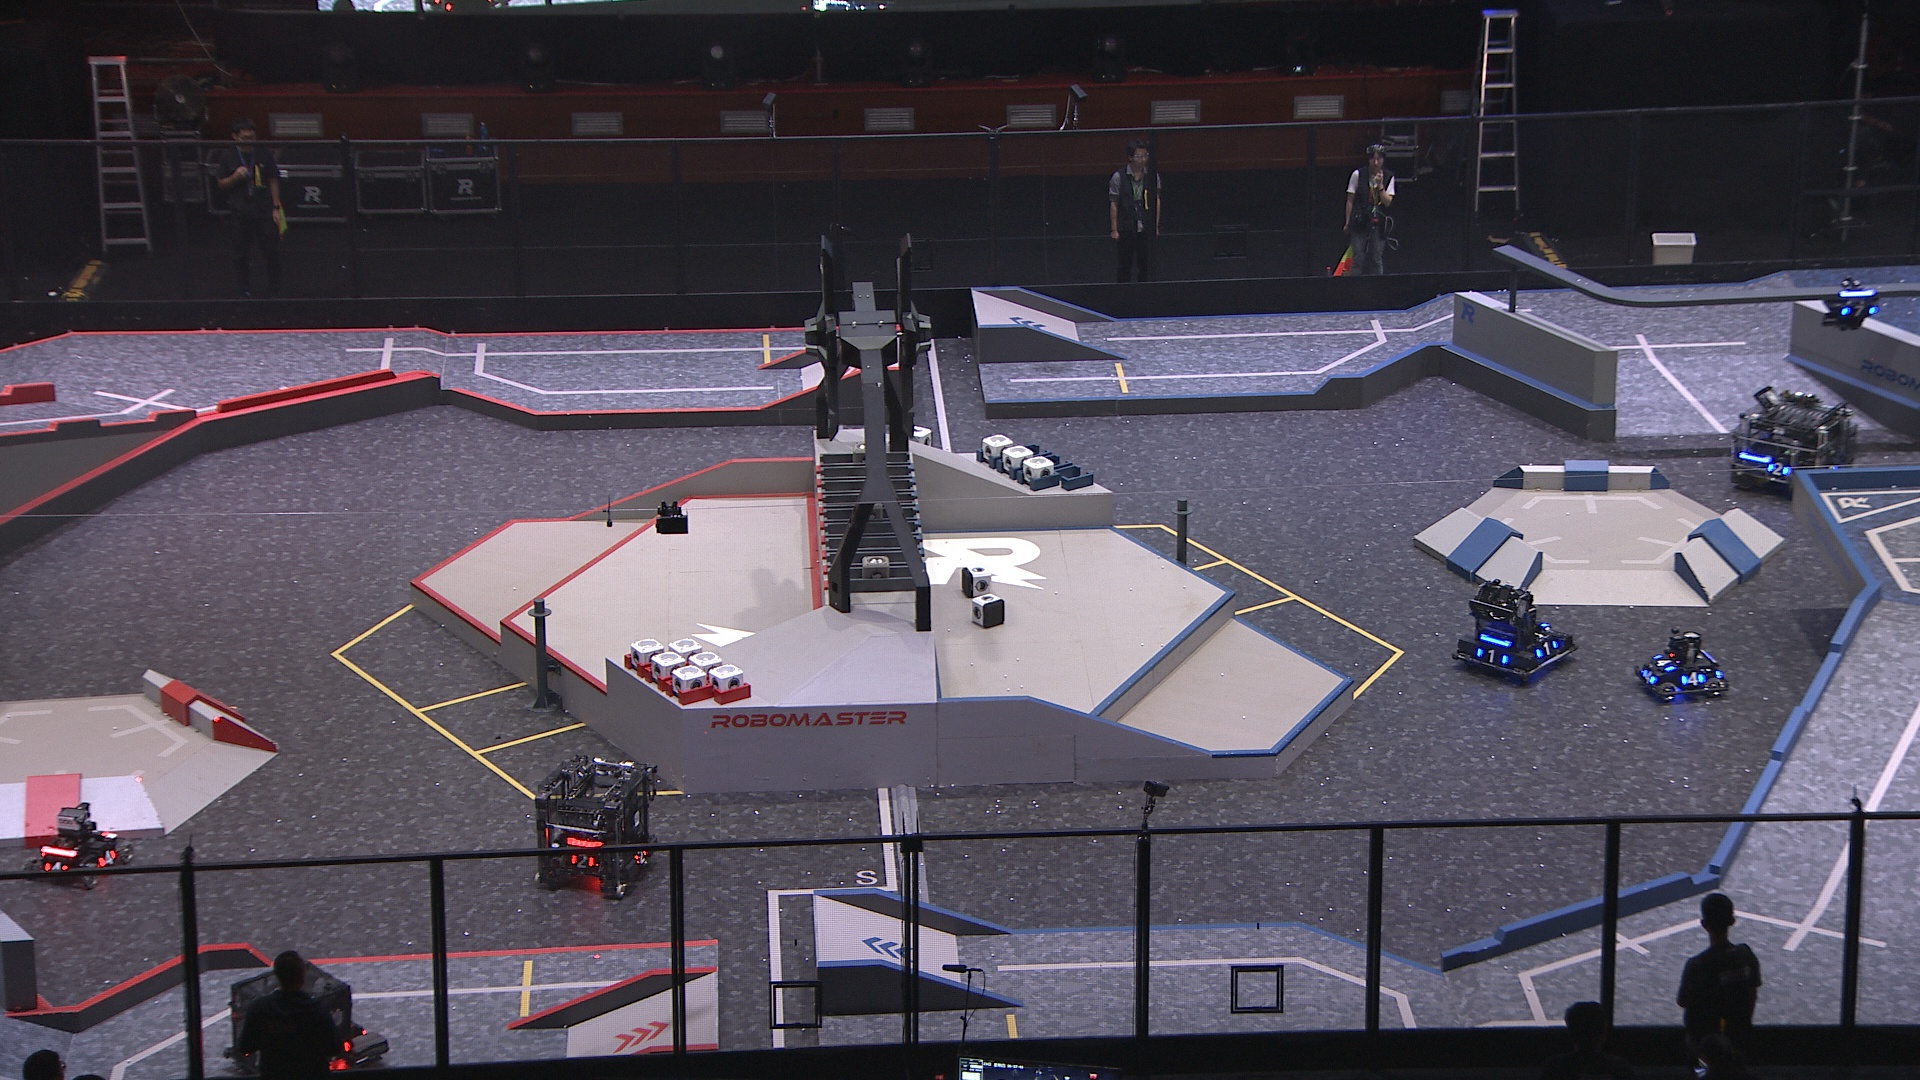armor: (1474, 644, 1513, 669), (1836, 301, 1876, 319), (1534, 636, 1560, 662), (1650, 651, 1677, 674), (567, 851, 596, 872), (1677, 669, 1708, 688), (96, 847, 119, 870), (1766, 458, 1789, 480), (44, 858, 69, 876), (1643, 665, 1658, 687), (632, 847, 650, 864)
car: (533, 752, 657, 906), (225, 953, 363, 1080), (1731, 384, 1865, 502), (1448, 575, 1578, 683), (18, 796, 145, 891), (1633, 622, 1731, 704)
watcher: (1821, 276, 1882, 330)
